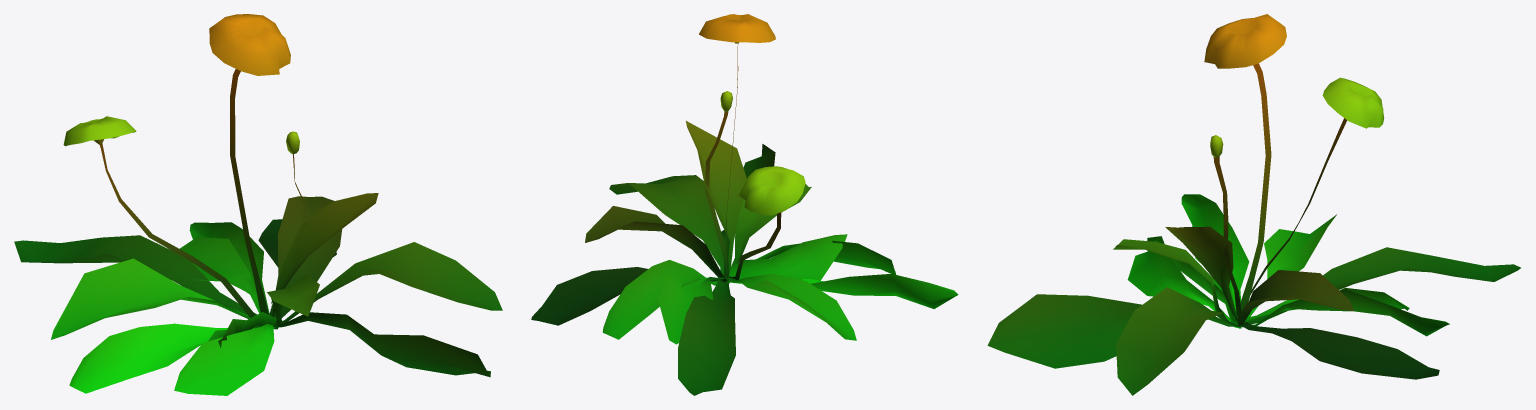
The model's file is SM_OW_Dandelion_a_LOD1.fbx.
The picture shows the model from 3 angles, left to right: view 1: azimuth 30°, elevation 25°; view 2: azimuth 150°, elevation 25°; view 3: azimuth 270°, elevation 25°; orthographic projection. The views are drawn at different scales.
Visible parts, largest first — view 1: SM_OW_Dandelion_a_LOD1; view 2: SM_OW_Dandelion_a_LOD1; view 3: SM_OW_Dandelion_a_LOD1.
Part boxes in pixels (x1,y1,x2,y2): SM_OW_Dandelion_a_LOD1: (14, 14, 502, 395); SM_OW_Dandelion_a_LOD1: (531, 14, 958, 395); SM_OW_Dandelion_a_LOD1: (987, 14, 1520, 395).
Bounding box in the file's own units: 0.2202 × 0.1598 × 0.2577.
